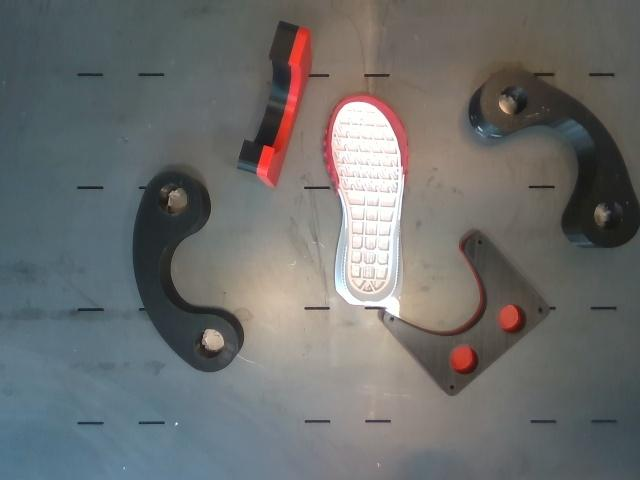shoes: (329, 96, 407, 302)
